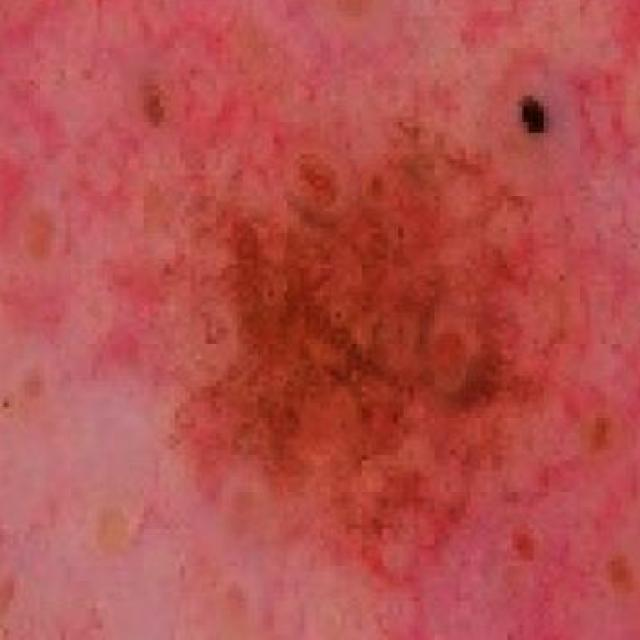MEL: (127, 76, 601, 629)
